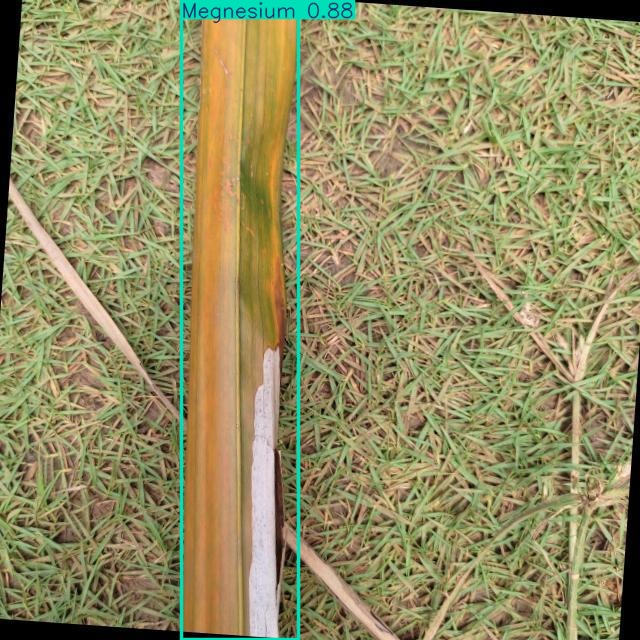Megnesium: (181, 0, 298, 640)
